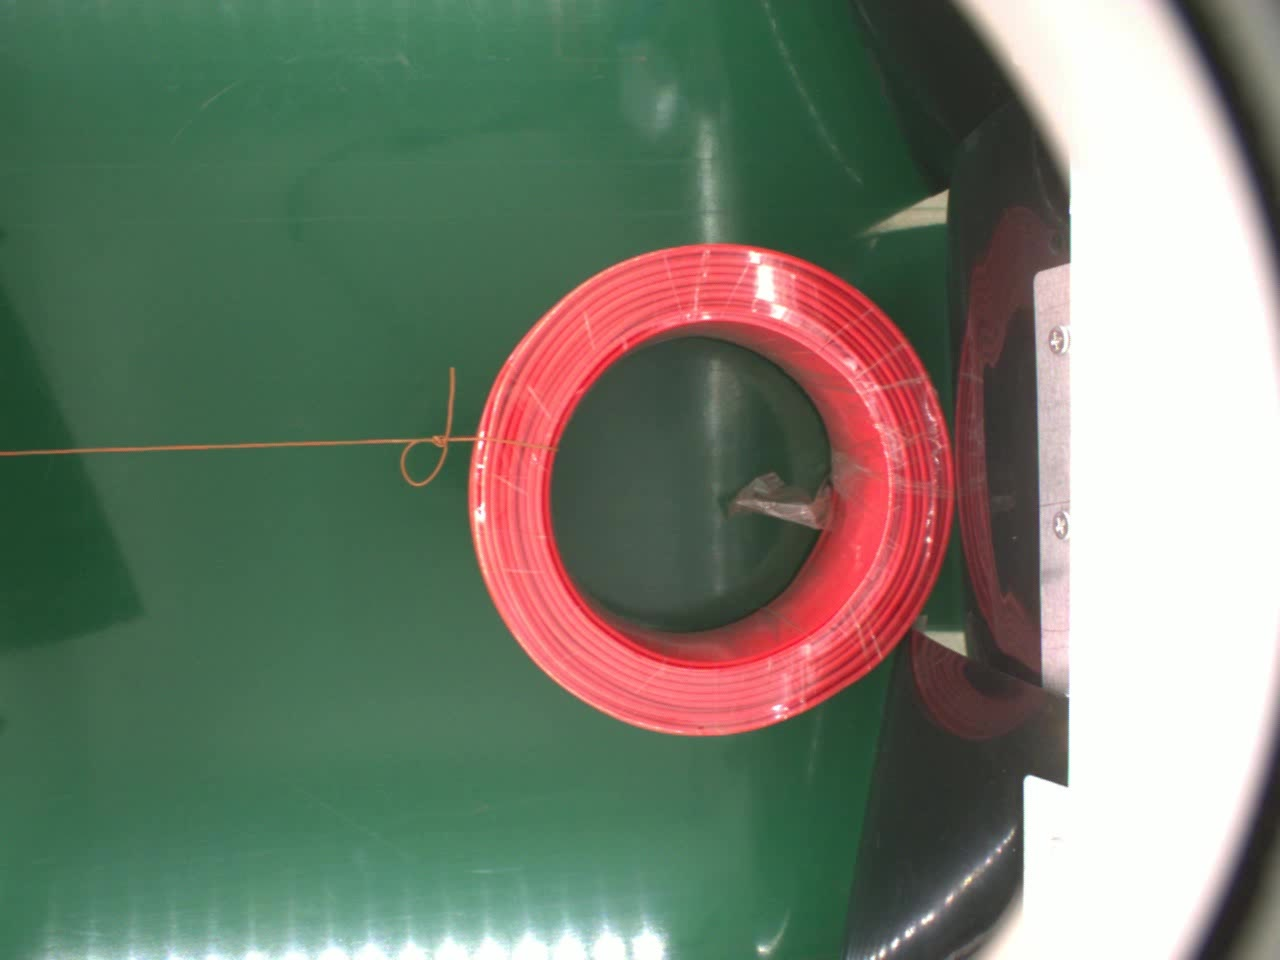red: (462, 235, 959, 745)
